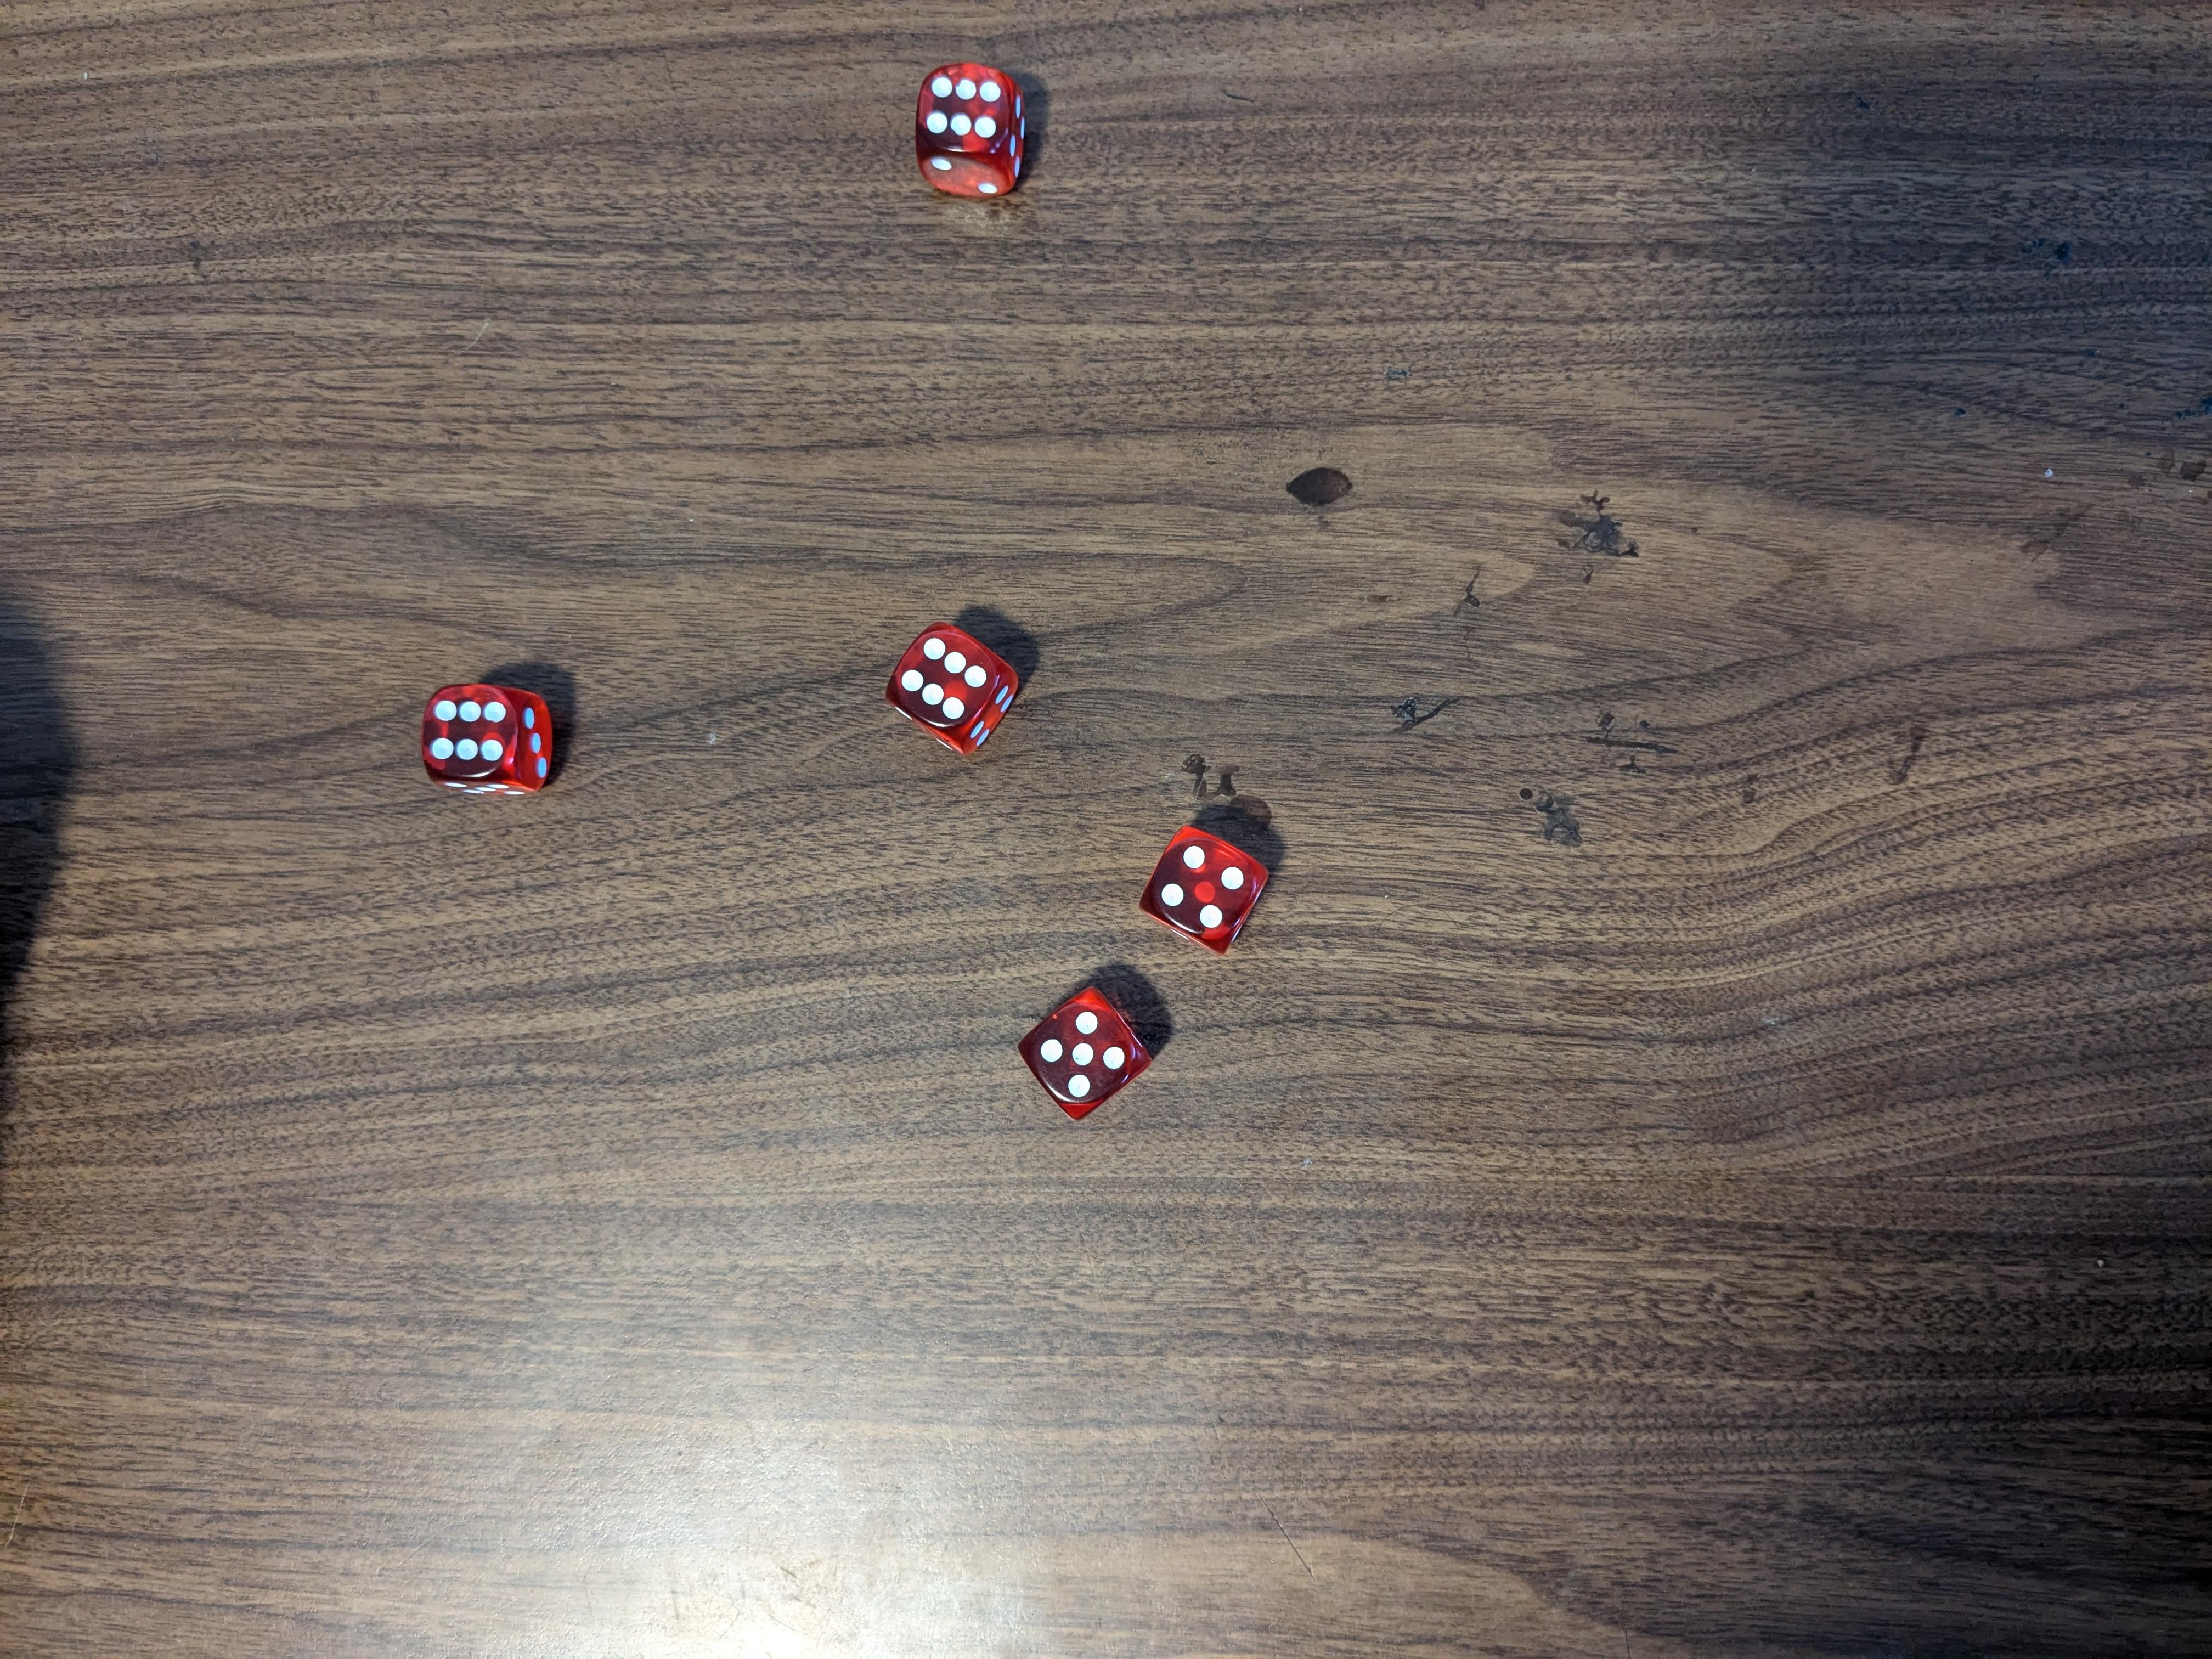five: (1014, 979, 1158, 1126)
four: (1141, 826, 1270, 964)
six: (411, 676, 561, 807), (881, 619, 1019, 756), (909, 66, 1035, 202)
